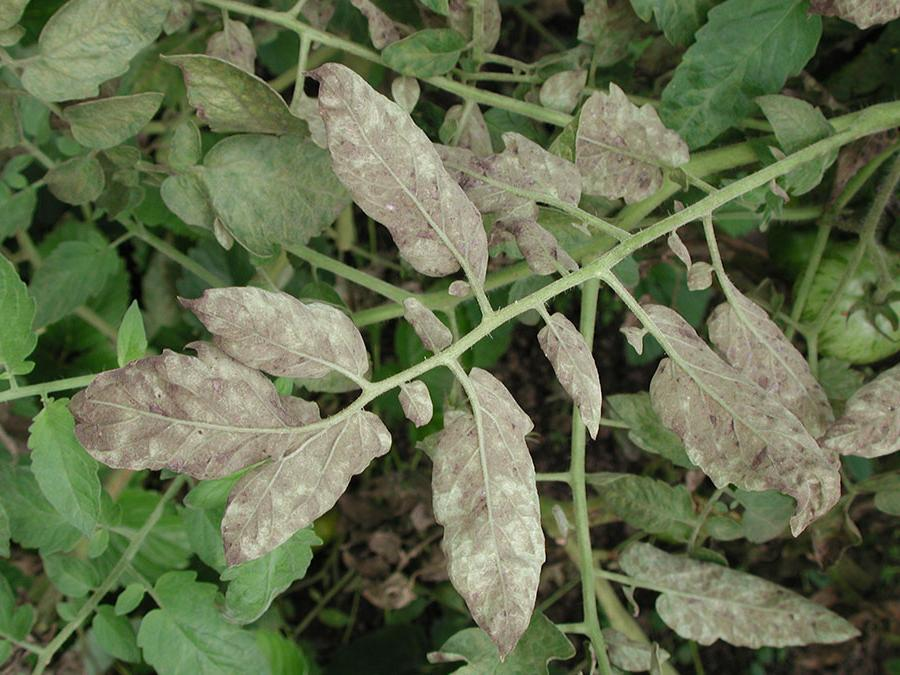Tomato mold leaf: (662, 6, 824, 140), (175, 141, 349, 260), (26, 1, 170, 103), (39, 87, 166, 175)
